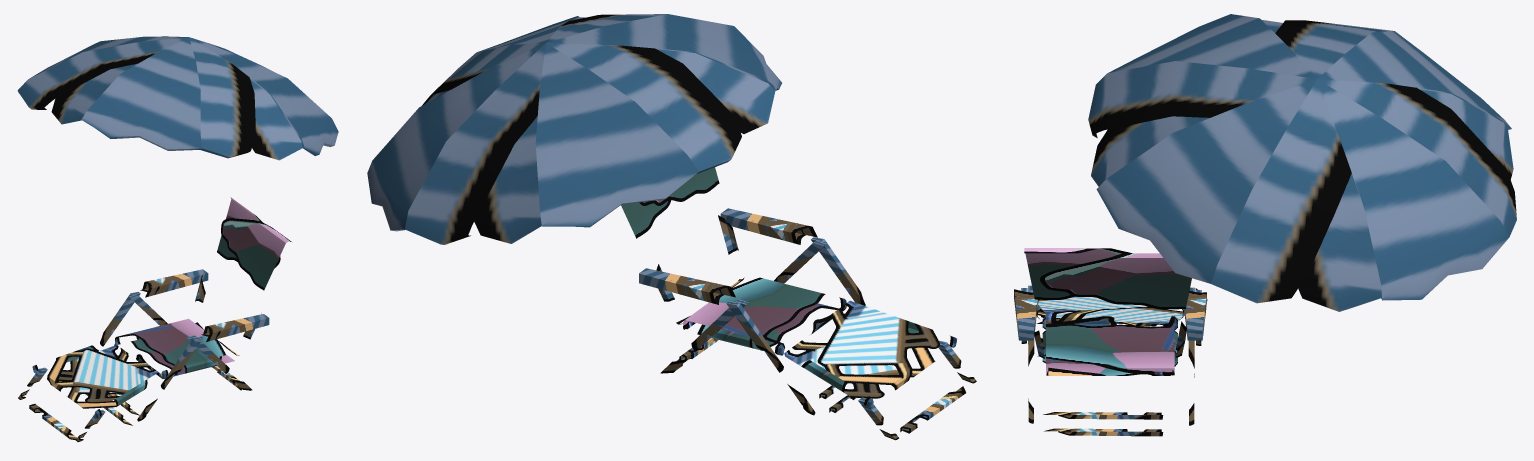
File: beach umbrella.fbx
The picture shows the model from 3 angles, left to right: view 1: azimuth 30°, elevation 25°; view 2: azimuth 150°, elevation 25°; view 3: azimuth 270°, elevation 25°; orthographic projection. The views are drawn at different scales.
Parts seen in each view (by area): view 1: beach_umbrella; view 2: beach_umbrella; view 3: beach_umbrella.
Part boxes in pixels (bbox=[...]): beach_umbrella: bbox=[17, 36, 338, 441]; beach_umbrella: bbox=[367, 14, 976, 440]; beach_umbrella: bbox=[1014, 14, 1516, 436].
Bounding box in the file's own units: 207 × 179 × 198.
